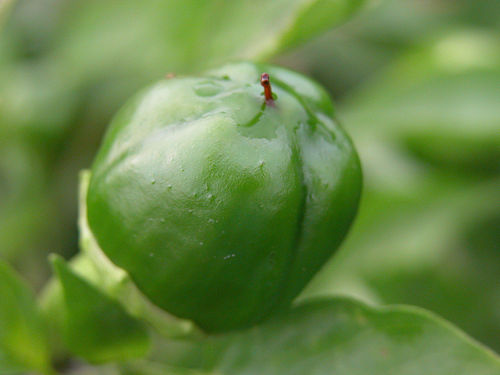capsicum: (86, 61, 363, 332)
